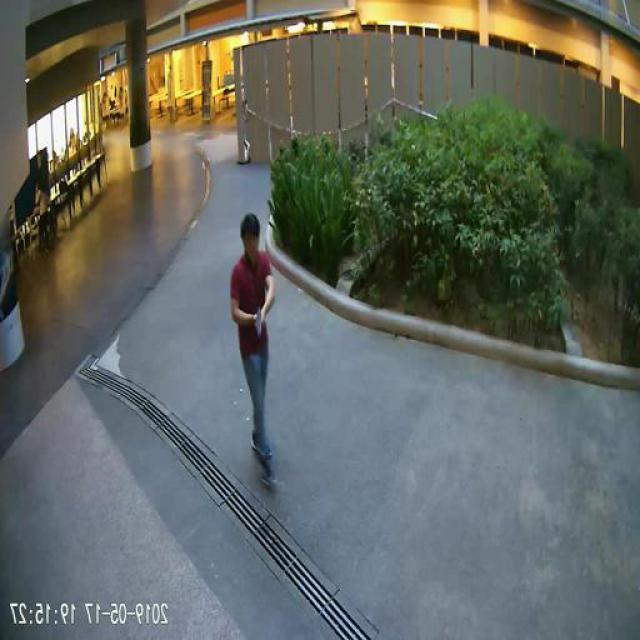Gun: (256, 305, 268, 335)
